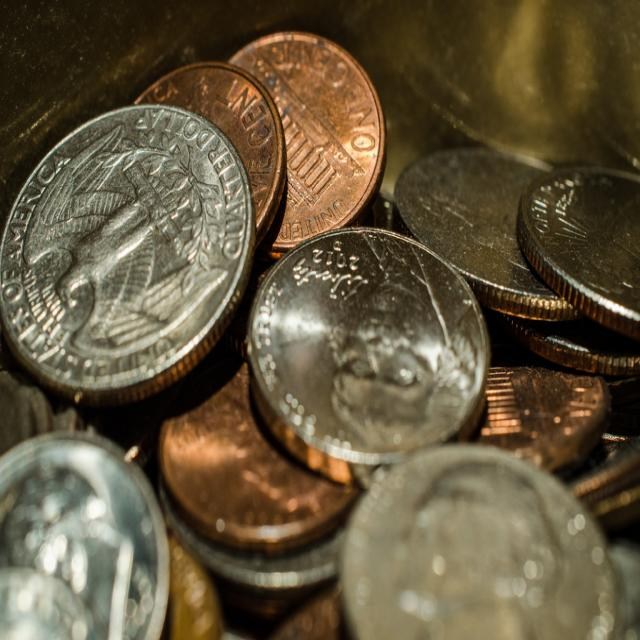Coin: (0, 24, 640, 639)
